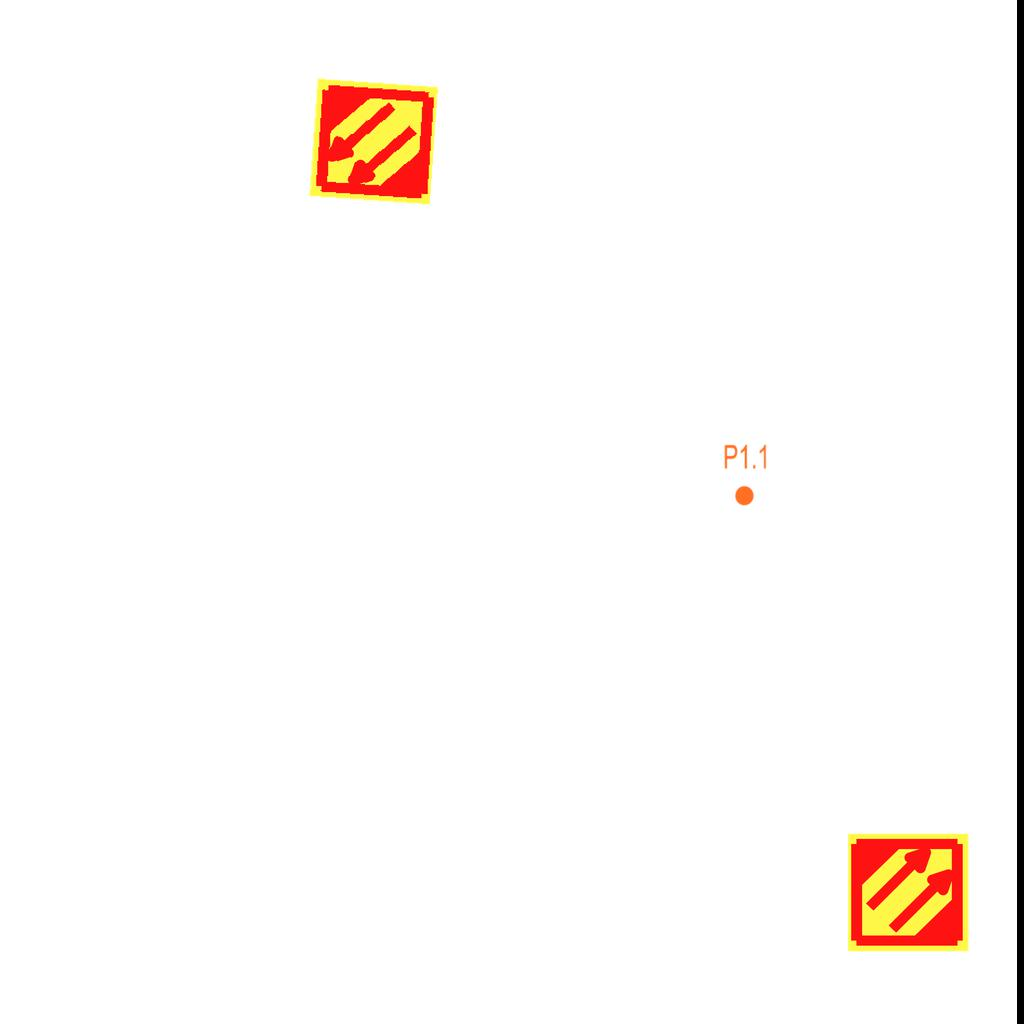ASR_Ansaugrauchmelder: (306, 74, 441, 209), (846, 830, 971, 955)
Downlight_LED_Einbauleuchten_Flur: (723, 443, 769, 507)
